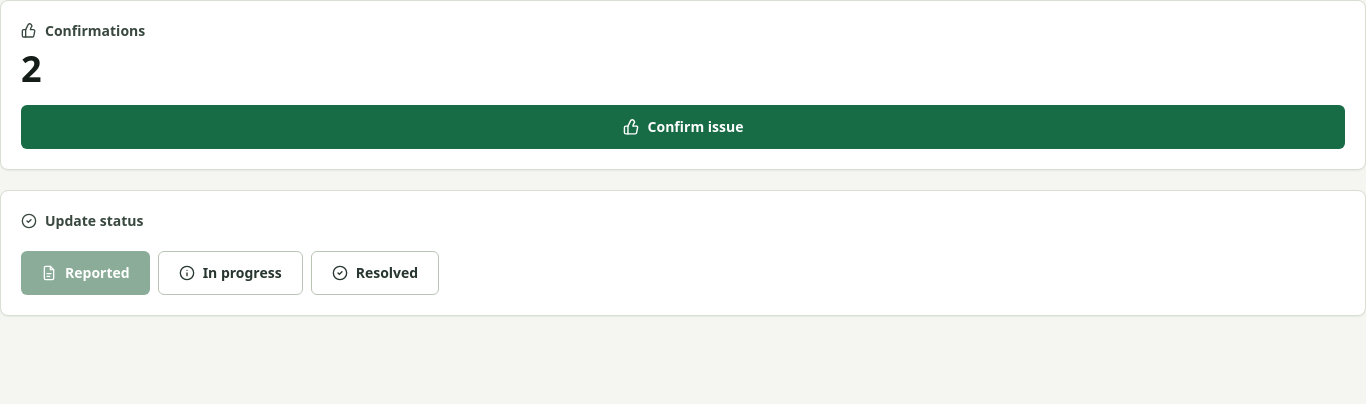
it: ReportDetailActions › shows status controls for locally owned reports and updates status
Click the button "Resolved". click: (375, 273)
box: x1=311 y1=251 x2=439 y2=295
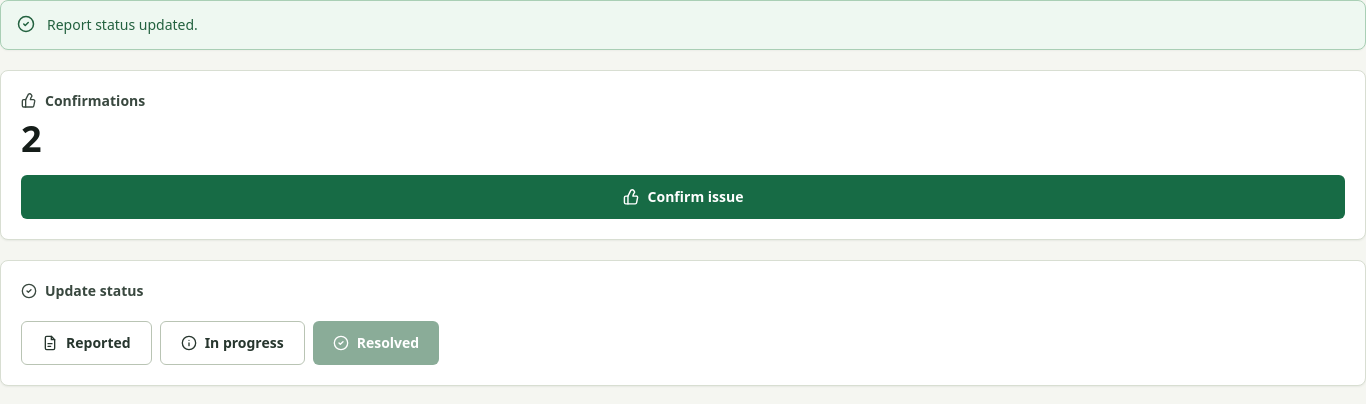
Expected: the text "Report status updated." is shown, x1=47 y1=13 x2=198 y2=37
